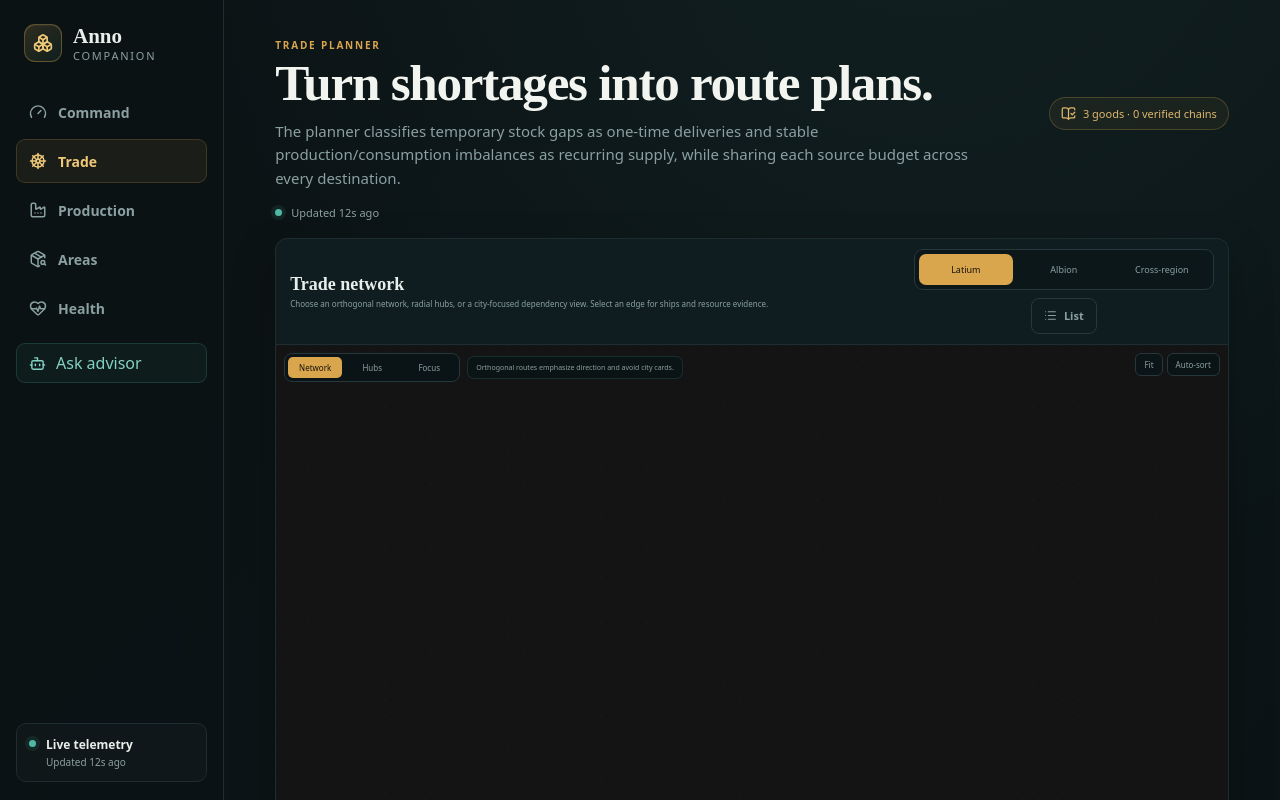
Test case: first-class management dashboard › opens a mapped trade edge with route, ship, and goods evidence
Expected: the text "Trade network" is shown, [290,274,404,294]
Click the button "List".
click(1064, 316)  # box [1031,298,1097,334]
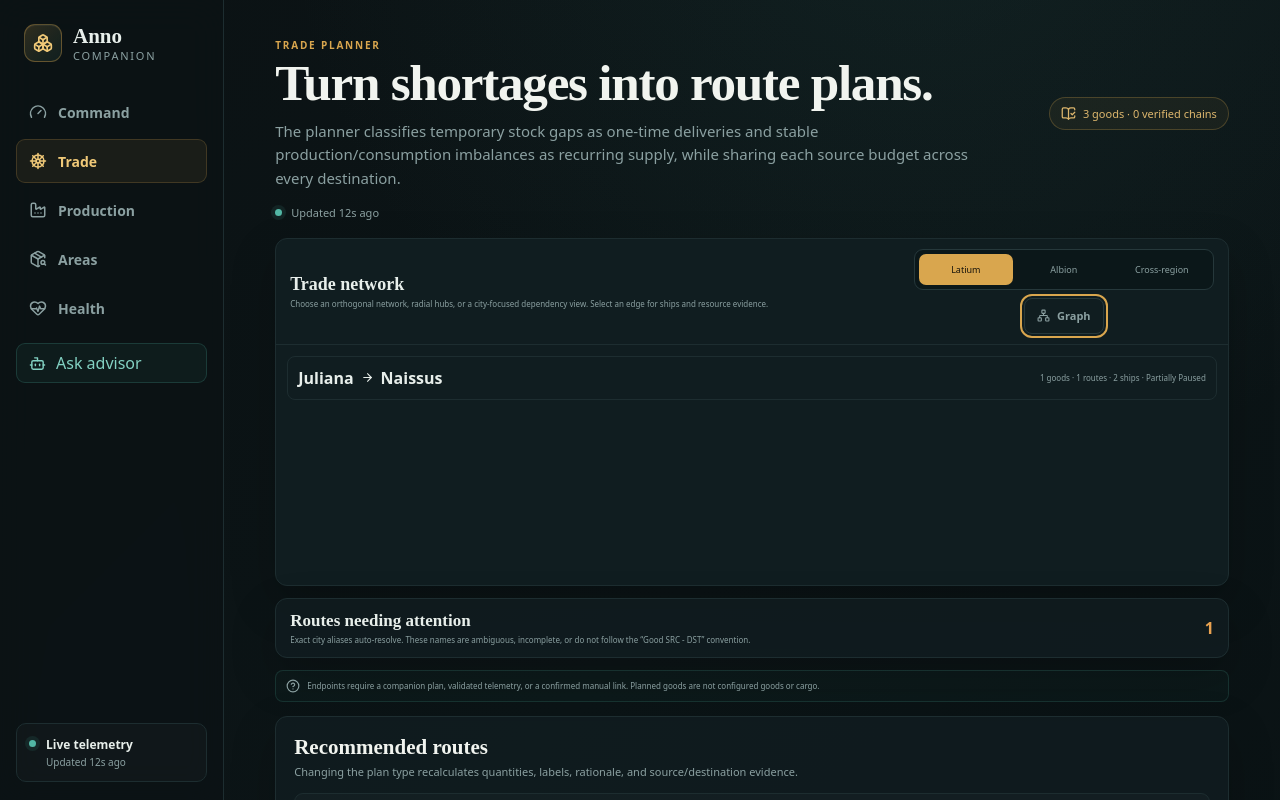
Click the button that starts with "Juliana".
click(326, 378)  # box [287,356,1217,400]
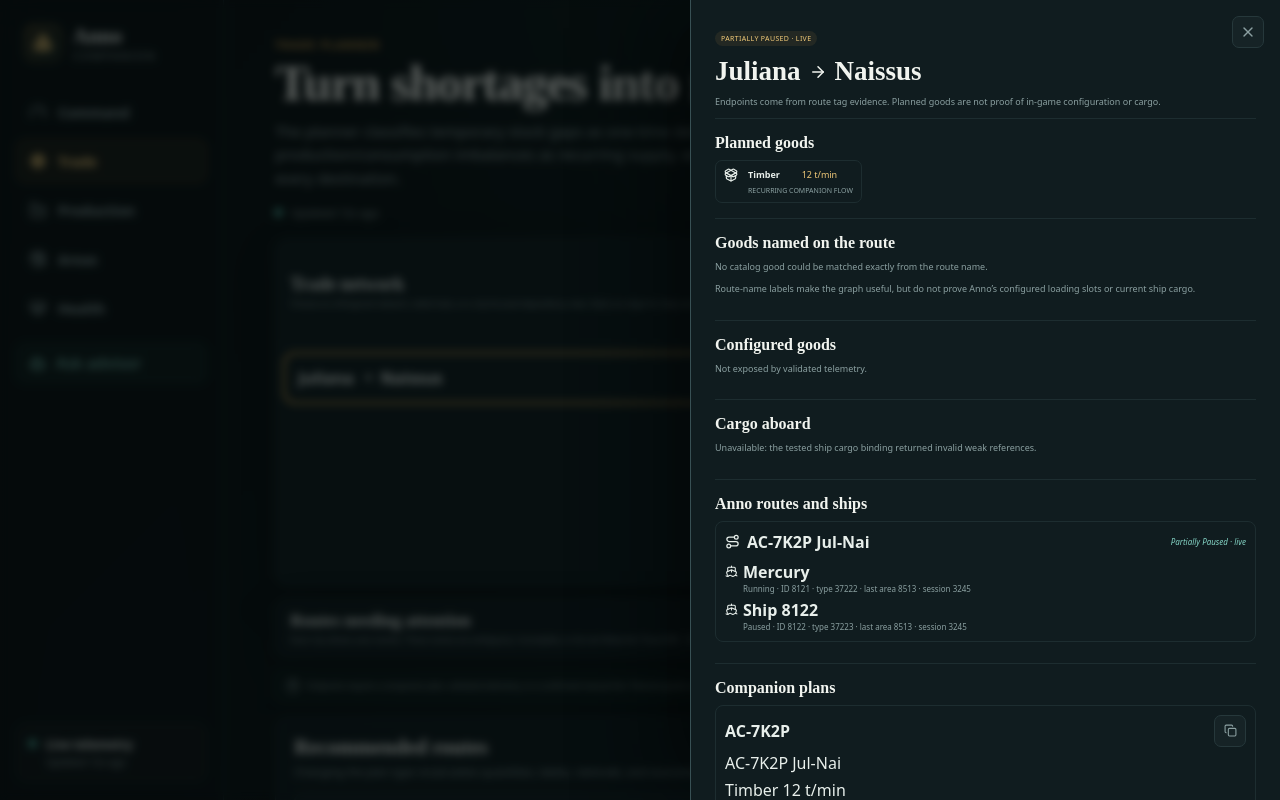
Result: the dialog named "Trade evidence for Juliana to Naissus" is shown at [690,0,1279,799]
Result: the text "AC-7K2P Jul-Nai" below "Anno routes and ships" is shown at [747,530,870,552]
Result: the text "Ship 8122" is shown at [743,598,818,620]
